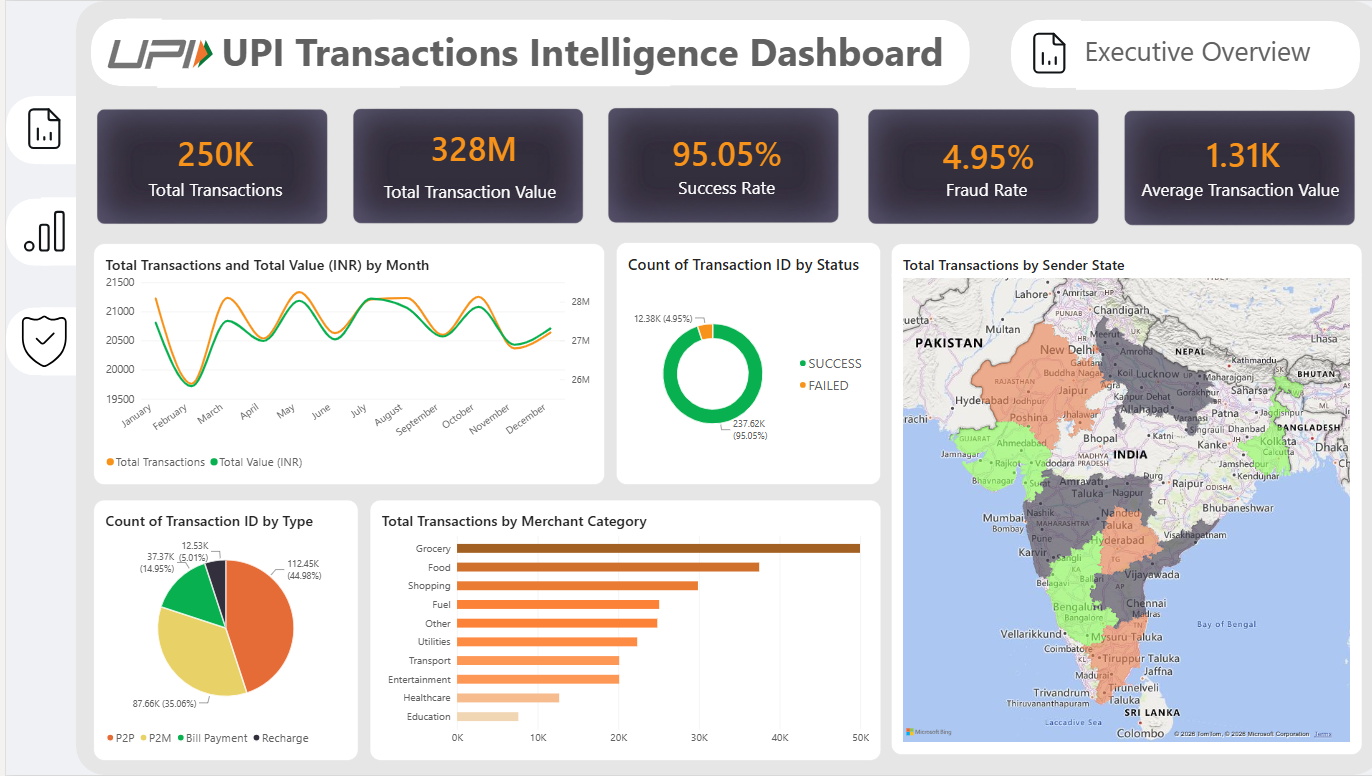

The dashboard page shown, as its layout file describes it:
{"tool":"powerbi","page":{"name":"Executive Overview","canvas":[1920,1080],"ordinal":0},"visuals":[{"type":"shape","box":[97.8,0,1822.2,1080],"z":0},{"type":"shape","box":[118,24.3,98.8,94],"z":0,"group":"g5"},{"type":"shape","box":[209.6,25,338.4,95],"z":0,"group":"g1"},{"type":"shape","box":[525.8,26,818.2,92.1],"z":0,"group":"g2"},{"type":"shape","box":[1402,26.3,97.5,95],"z":0,"group":"g6"},{"type":"shape","box":[1492.4,27,334,96],"z":0,"group":"g9"},{"type":"shape","box":[1790.4,27,98,95],"z":0,"group":"g3"},{"type":"shape","box":[0,132.5,97.5,95],"z":0,"group":"g4"},{"type":"image","box":[835.3,144.8,338.6,174.3],"z":0,"group":"g12"},{"type":"image","box":[478.8,145,337.5,175],"z":0,"group":"g11"},{"type":"image","box":[1198.1,146.1,338.6,174.3],"z":0,"group":"g13"},{"type":"image","box":[121.3,146.5,338.6,174.3],"z":0,"group":"g10"},{"type":"image","box":[1555,147.5,338.6,174.3],"z":0,"group":"g14"},{"type":"shape","box":[0,276,98,94],"z":0,"group":"g7"},{"type":"shape","box":[0,427.5,97.5,95],"z":0,"group":"g8"},{"type":"group","id":"g1","title":"Group 5","box":[118,24,1226,96],"z":1000},{"type":"shape","box":[167.5,24,49.5,94.6],"z":1000,"group":"g5"},{"type":"group","id":"g2","title":"Group 1","box":[509.1,26,834.9,93.1],"z":1000,"group":"g1"},{"type":"shape","box":[509.1,26,417.4,93.1],"z":1000,"group":"g2"},{"type":"shape","box":[1450.9,26,48.9,95.6],"z":1000,"group":"g6"},{"type":"shape","box":[1788.4,27,50,96],"z":1000,"group":"g3"},{"type":"group","id":"g3","title":"Group 1","box":[1788.4,27,100,96],"z":1000,"group":"g9"},{"type":"group","id":"g4","title":"Group 1","box":[0,132.2,97.8,95.6],"z":1000,"group":"g15"},{"type":"shape","box":[48.9,132.2,48.9,95.6],"z":1000,"group":"g4"},{"type":"cardVisual","fields":{"Data":["DateTable.Total Value (INR)"]},"box":[567.4,165.6,169.1,75.4],"z":1000,"group":"g11"},{"type":"cardVisual","fields":{"Data":["DateTable.Total Transactions"]},"box":[224.2,172.2,135.7,74.3],"z":1000,"group":"g10"},{"type":"cardVisual","fields":{"Data":["DateTable.Avg Transaction Value"]},"box":[1657.9,173.2,135.7,74.3],"z":1000,"group":"g14"},{"type":"cardVisual","fields":{"Data":["DateTable.Success Rate"]},"box":[915.8,174.8,182,70],"z":1000,"group":"g12"},{"type":"cardVisual","fields":{"Data":["DateTable.Failure Rate"]},"box":[1277.5,175.1,186,74],"z":1000,"group":"g13"},{"type":"shape","box":[48.9,274.4,48.9,95.6],"z":1000,"group":"g7"},{"type":"shape","box":[48.9,427.8,48.9,95.6],"z":1000,"group":"g8"},{"type":"image","box":[127.3,0,176,148],"z":2000},{"type":"group","id":"g5","title":"Group 1","box":[118,24,99.1,94.6],"z":2000,"group":"g1"},{"type":"group","id":"g6","title":"Group 1","box":[1402,26,97.8,95.6],"z":2000,"group":"g9"},{"type":"textbox","box":[899.6,244.8,211.4,42.9],"z":2000,"group":"g12"},{"type":"textbox","box":[1575.8,244.8,291.5,46.9],"z":2000,"group":"g14"},{"type":"textbox","box":[1262.4,246.1,211.4,42.9],"z":2000,"group":"g13"},{"type":"textbox","box":[185.6,246.5,211.4,42.9],"z":2000,"group":"g10"},{"type":"textbox","box":[516.4,250.1,259,56.2],"z":2000,"group":"g11"},{"type":"group","id":"g7","title":"Group 2","box":[0,274.4,98,95.6],"z":2000,"group":"g16"},{"type":"textbox","box":[290,34,1030,82],"z":3000},{"type":"group","id":"g8","title":"Group 3","box":[0,427.5,97.8,95.8],"z":3000,"group":"g17"},{"type":"group","id":"g9","title":"Group 5","box":[1402,26,486,96],"z":4000},{"type":"image","box":[17.6,132.3,71.8,91.2],"z":4000,"group":"g15"},{"type":"textbox","box":[1450,44,426,66],"z":5000},{"type":"image","box":[17.6,277,71.8,91.2],"z":5000,"group":"g16"},{"type":"group","id":"g10","title":"Group 4","box":[121.3,146.5,338.6,174.3],"z":6000},{"type":"image","box":[17.6,429.4,71.8,91.2],"z":6000,"group":"g17"},{"type":"group","id":"g11","title":"Group 4","box":[478.8,145,337.5,175],"z":7000},{"type":"group","id":"g12","title":"Group 4","box":[835.3,144.8,338.6,174.3],"z":8000},{"type":"group","id":"g13","title":"Group 4","box":[1198.1,146.1,338.6,174.3],"z":9000},{"type":"group","id":"g14","title":"Group 4","box":[1555,147.5,338.6,174.3],"z":10000},{"type":"lineChart","title":"Total Transactions and Total Value (INR) by Month","fields":{"Category":["DateTable.Date.Variation.Date Hierarchy.Month"],"Y":["DateTable.Total Transactions"],"Y2":["DateTable.Total Value (INR)"]},"box":[121.4,338.7,713.7,336.9],"z":11000},{"type":"barChart","title":"Total Transactions by Merchant Category","fields":{"Category":["upi_transactions_2024_powerbi.merchant_category"],"Y":["DateTable.Total Transactions"]},"box":[507.2,695.5,713.7,364.1],"z":12000},{"type":"donutChart","title":"Count of Transaction ID by Status","fields":{"Category":["upi_transactions_2024_powerbi.transaction_status"],"Y":["CountNonNull(upi_transactions_2024_powerbi.transaction id)"]},"box":[851.3,336.9,369.5,338.7],"z":13000},{"type":"filledMap","title":"Total Transactions by Sender State","fields":{"Category":["upi_transactions_2024_powerbi.sender_state"]},"box":[1235.3,338.7,657.5,713.7],"z":14000},{"type":"pieChart","title":"Count of Transaction ID by Type","fields":{"Category":["upi_transactions_2024_powerbi.transaction_type"],"Y":["CountNonNull(upi_transactions_2024_powerbi.transaction id)"]},"box":[121.4,695.5,369.5,364.1],"z":15000},{"type":"image","box":[1420,28,72,90],"z":16000},{"type":"group","id":"g15","title":"Group 6","box":[0,132.2,97.8,95.6],"z":17000},{"type":"group","id":"g16","title":"Group 7","box":[0,274.4,98,95.6],"z":18000},{"type":"group","id":"g17","title":"Group 8","box":[0,427.5,97.8,95.8],"z":19000}]}

Visuals, with their boxes in screenshot pixels (x1, y1, x2, y2), scaled from the page's 1920x1080 canvas onto the 1372x776 screenshot:
shape: box=[70, 0, 1371, 775]
shape: box=[84, 17, 155, 85]
shape: box=[150, 18, 392, 86]
shape: box=[376, 19, 960, 85]
shape: box=[1002, 19, 1072, 87]
shape: box=[1066, 19, 1305, 88]
shape: box=[1279, 19, 1349, 88]
shape: box=[0, 95, 70, 163]
image: box=[597, 104, 839, 229]
image: box=[342, 104, 583, 230]
image: box=[856, 105, 1098, 230]
image: box=[87, 105, 329, 231]
image: box=[1111, 106, 1353, 231]
shape: box=[0, 198, 70, 266]
shape: box=[0, 307, 70, 375]
"Group 5" group: box=[84, 17, 960, 86]
shape: box=[120, 17, 155, 85]
"Group 1" group: box=[364, 19, 960, 86]
shape: box=[364, 19, 662, 86]
shape: box=[1037, 19, 1072, 87]
shape: box=[1278, 19, 1314, 88]
"Group 1" group: box=[1278, 19, 1349, 88]
"Group 1" group: box=[0, 95, 70, 164]
shape: box=[35, 95, 70, 164]
cardVisual - DateTable.Total Value (INR): box=[405, 119, 526, 173]
cardVisual - DateTable.Total Transactions: box=[160, 124, 257, 177]
cardVisual - DateTable.Avg Transaction Value: box=[1185, 124, 1282, 178]
cardVisual - DateTable.Success Rate: box=[654, 126, 784, 176]
cardVisual - DateTable.Failure Rate: box=[913, 126, 1046, 179]
shape: box=[35, 197, 70, 266]
shape: box=[35, 307, 70, 376]
image: box=[91, 0, 217, 106]
"Group 1" group: box=[84, 17, 155, 85]
"Group 1" group: box=[1002, 19, 1072, 87]
textbox: box=[643, 176, 794, 207]
textbox: box=[1126, 176, 1334, 210]
textbox: box=[902, 177, 1053, 208]
textbox: box=[133, 177, 284, 208]
textbox: box=[369, 180, 554, 220]
"Group 2" group: box=[0, 197, 70, 266]
textbox: box=[207, 24, 943, 83]
"Group 3" group: box=[0, 307, 70, 376]
"Group 5" group: box=[1002, 19, 1349, 88]
image: box=[13, 95, 64, 161]
textbox: box=[1036, 32, 1341, 79]
image: box=[13, 199, 64, 265]
"Group 4" group: box=[87, 105, 329, 231]
image: box=[13, 309, 64, 374]
"Group 4" group: box=[342, 104, 583, 230]
"Group 4" group: box=[597, 104, 839, 229]
"Group 4" group: box=[856, 105, 1098, 230]
"Group 4" group: box=[1111, 106, 1353, 231]
"Total Transactions and Total Value (INR) by Month" lineChart: box=[87, 243, 597, 485]
"Total Transactions by Merchant Category" barChart: box=[362, 500, 872, 761]
"Count of Transaction ID by Status" donutChart: box=[608, 242, 872, 485]
"Total Transactions by Sender State" filledMap: box=[883, 243, 1353, 756]
"Count of Transaction ID by Type" pieChart: box=[87, 500, 351, 761]
image: box=[1015, 20, 1066, 85]
"Group 6" group: box=[0, 95, 70, 164]
"Group 7" group: box=[0, 197, 70, 266]
"Group 8" group: box=[0, 307, 70, 376]
